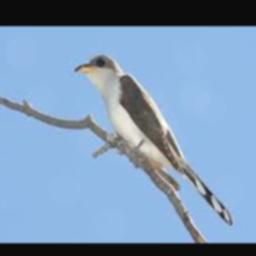Cuckoo: (75, 53, 233, 227)
